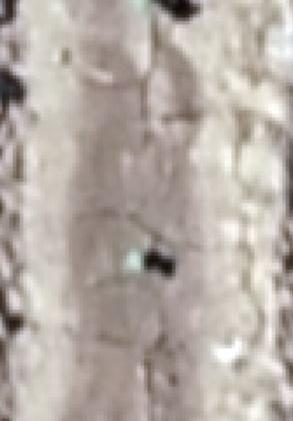cotton: (131, 245, 146, 265)
